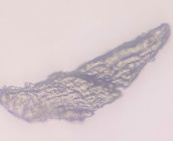microplastic: (1, 22, 171, 125)
